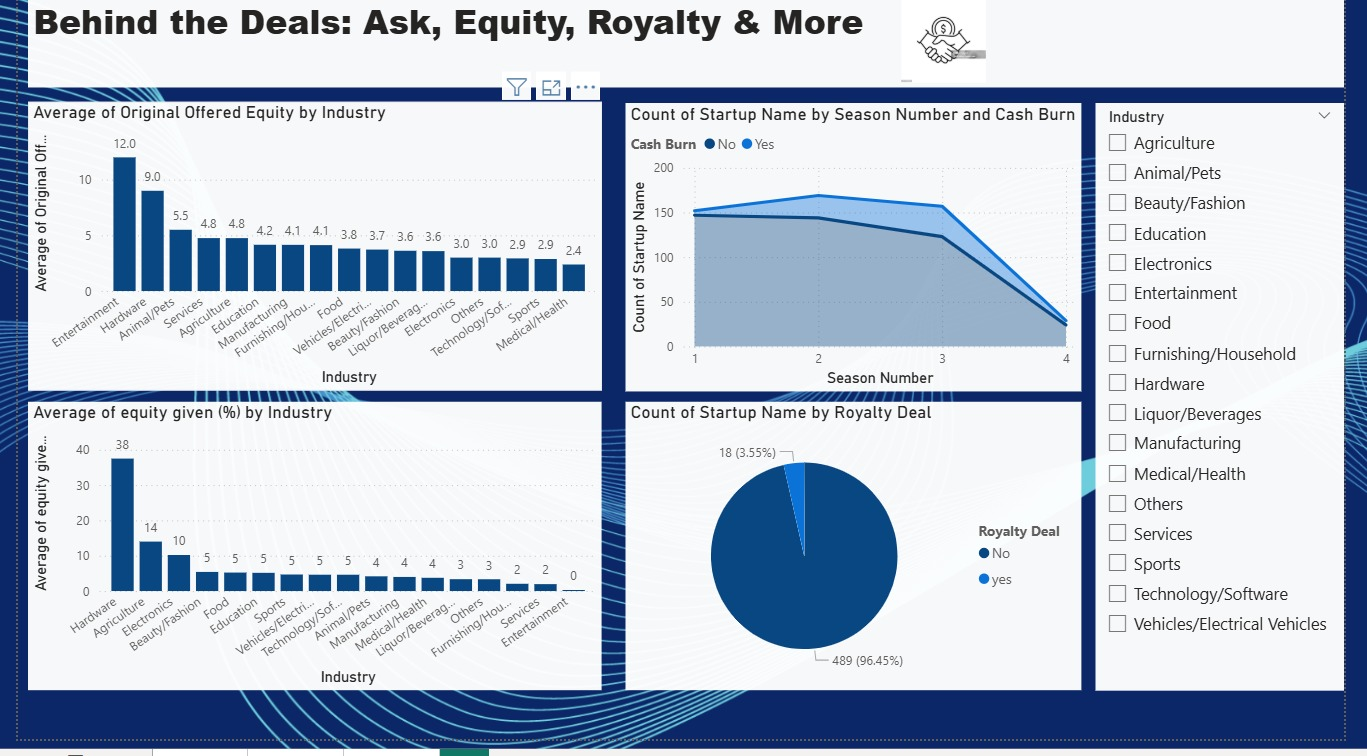

The dashboard page shown, as its layout file describes it:
{"tool":"powerbi","page":{"name":"Page 3","canvas":[1280,720],"ordinal":2},"visuals":[{"type":"textbox","box":[10,0,1270,91],"z":0},{"type":"clusteredColumnChart","fields":{"Category":["Shark Tank India.Industry"],"Y":["Avg(Shark Tank India.Original Offered Equity)"]},"box":[9.7,105,553.8,278.7],"z":1},{"type":"clusteredColumnChart","fields":{"Category":["Shark Tank India.Industry"],"Y":["Avg(Shark Tank India.equity given (%))"]},"box":[9.7,394.5,553.8,278.7],"z":2},{"type":"pieChart","fields":{"Category":["Shark Tank India.Royalty Deal"],"Y":["CountNonNull(Shark Tank India.Startup Name)"]},"box":[586.3,394.5,440.4,278.7],"z":3},{"type":"stackedAreaChart","fields":{"Category":["Shark Tank India.Season Number"],"Y":["CountNonNull(Shark Tank India.Startup Name)"],"Series":["Shark Tank India.Cash Burn"]},"box":[586.3,106.2,440.4,278.7],"z":4},{"type":"slicer","fields":{"Values":["Shark Tank India.Industry"]},"box":[1040,106.2,240.1,567],"z":5},{"type":"image","box":[844,0,97,91],"z":6}]}

Visuals, with their boxes in screenshot pixels (x1, y1, x2, y2), scaled from the page's 1280x720 canvas onto the 1367x756 screenshot:
textbox: 11, 0, 1366, 96
clusteredColumnChart - Shark Tank India.Industry x Avg(Shark Tank India.Original Offered Equity): 10, 110, 602, 403
clusteredColumnChart - Shark Tank India.Industry x Avg(Shark Tank India.equity given (%)): 10, 414, 602, 707
pieChart - Shark Tank India.Royalty Deal x CountNonNull(Shark Tank India.Startup Name): 626, 414, 1096, 707
stackedAreaChart - Shark Tank India.Season Number x CountNonNull(Shark Tank India.Startup Name): 626, 112, 1096, 404
slicer - Shark Tank India.Industry: 1111, 112, 1366, 707
image: 901, 0, 1005, 96
